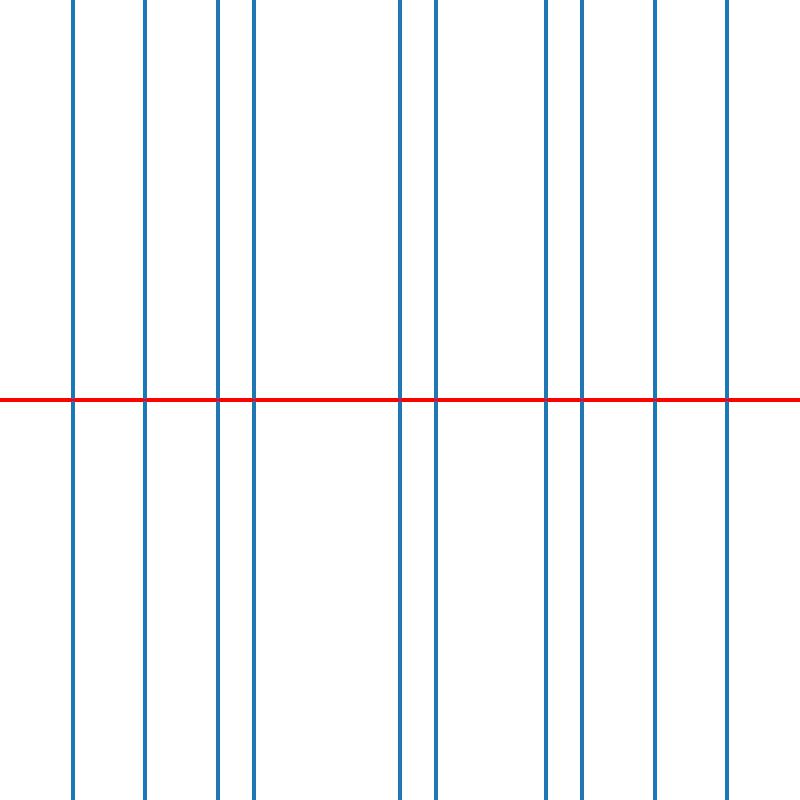root: (541, 396, 549, 404), (650, 396, 658, 404), (141, 396, 149, 404), (250, 396, 258, 404), (432, 396, 440, 404), (214, 396, 221, 404), (578, 396, 585, 404), (723, 396, 730, 404), (396, 396, 403, 404), (69, 396, 76, 404)
